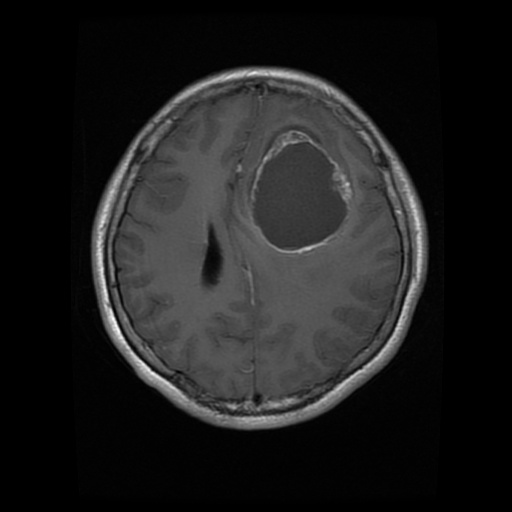glioma: (248, 123, 354, 254)
